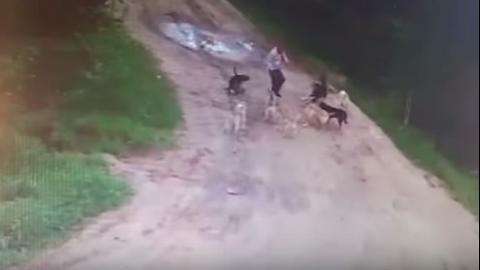dog_aggressive: (319, 101, 351, 130), (226, 66, 250, 98), (304, 77, 329, 102)
